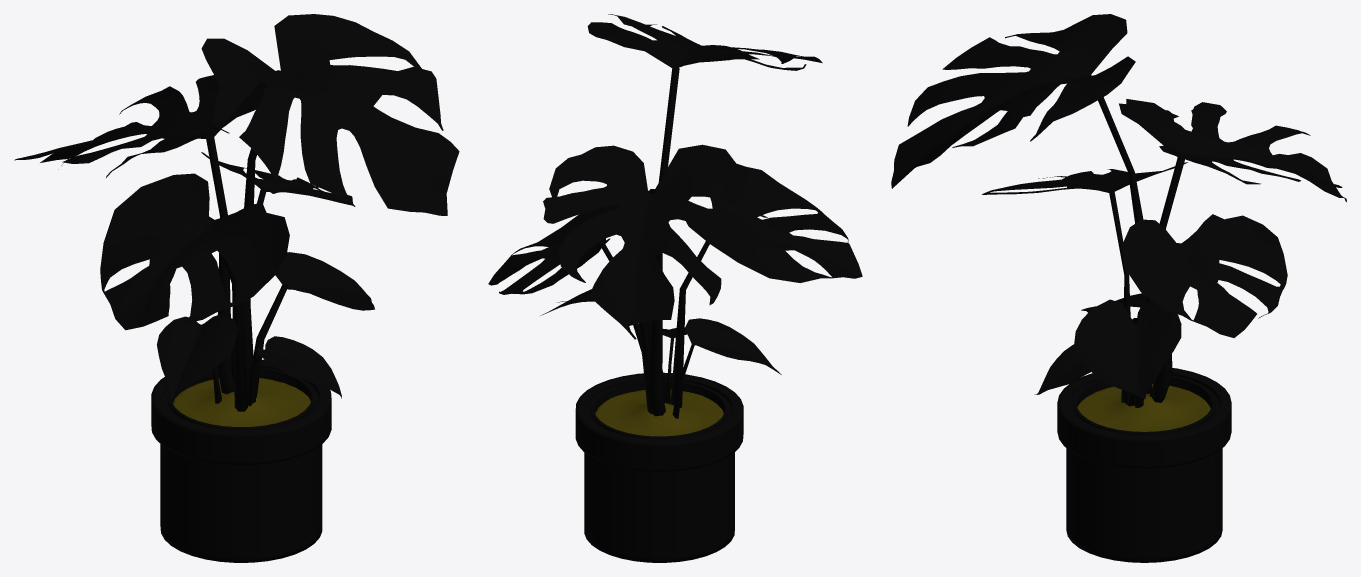
Rendered from deco_plant_1.fbx.
The picture shows the model from 3 angles, left to right: view 1: azimuth 30°, elevation 25°; view 2: azimuth 150°, elevation 25°; view 3: azimuth 270°, elevation 25°; orthographic projection. The views are drawn at different scales.
Visible parts, largest first — view 1: Leaf6.002; view 2: Leaf6.002; view 3: Leaf6.002.
Part boxes in pixels (left/top/right/bottom): Leaf6.002: left=14, top=14, right=459, bottom=562; Leaf6.002: left=488, top=14, right=862, bottom=562; Leaf6.002: left=891, top=14, right=1346, bottom=562.
Bounding box in the file's own units: 29.99 × 47.47 × 40.05.
